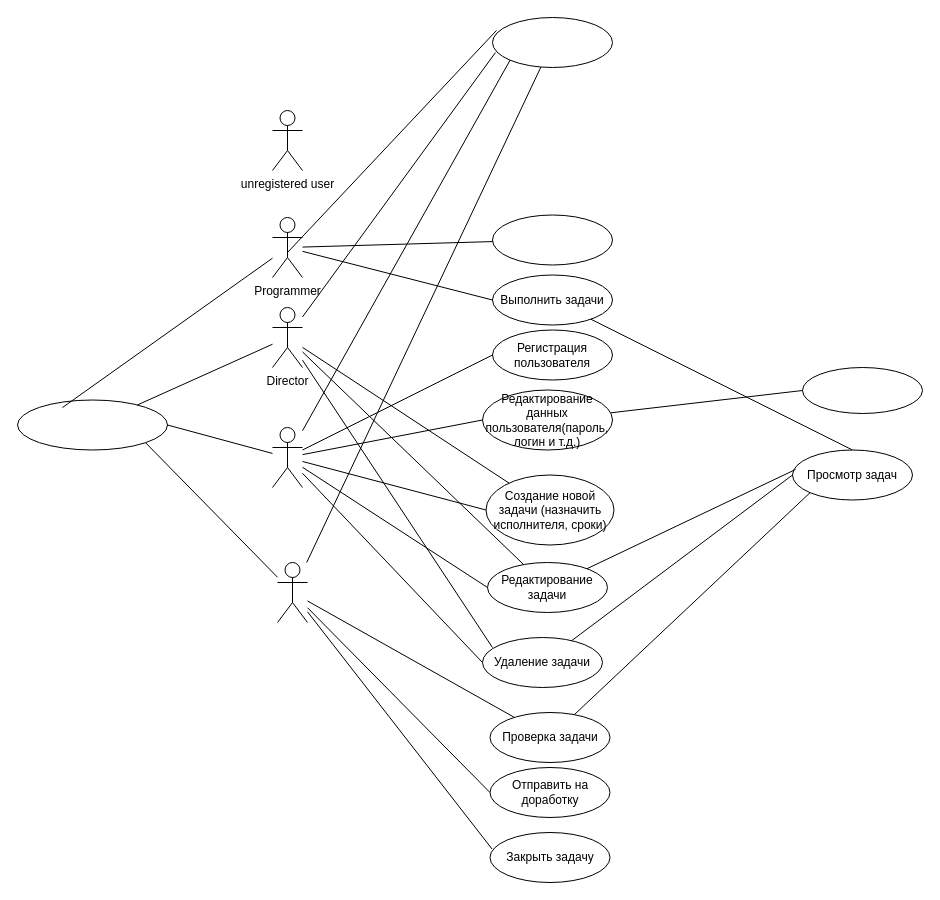
The diagram is 940 pixels wide and 900 high, and some of its shapes have lost their labels. Here are the shapes that lost their labels. From the top down, the centre of each, then its label:
the point at 552,42: Войти в систему
the point at 552,239: Отправить на тестирование
the point at 862,390: Просмотр пользователей
the point at 92,424: Просмотр статистики/прогресса по проекту
the point at 287,457: Admin
the point at 292,592: Tester
